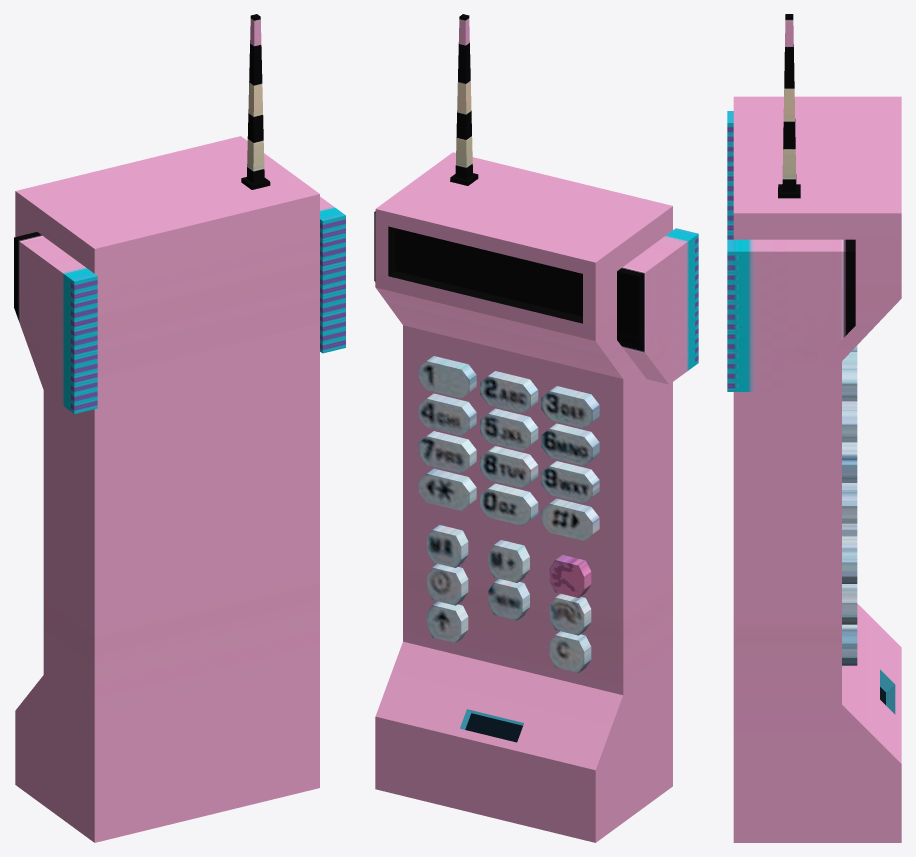
File: cell-phone-retro.glb
3 views of the same model, side by side, from view 1: azimuth 30°, elevation 25°; view 2: azimuth 150°, elevation 25°; view 3: azimuth 270°, elevation 25° (orthographic). The views are drawn at different scales.
Parts seen in each view (by area): view 1: CellPhone_Retro; view 2: CellPhone_Retro; view 3: CellPhone_Retro.
Part boxes in pixels (<box>): CellPhone_Retro: <box>14,14,345,842</box>; CellPhone_Retro: <box>374,14,698,842</box>; CellPhone_Retro: <box>727,14,901,842</box>.
Size of the model in its own units: 1.05 by 2.82 by 0.551.
2 materials, 2 textured.
